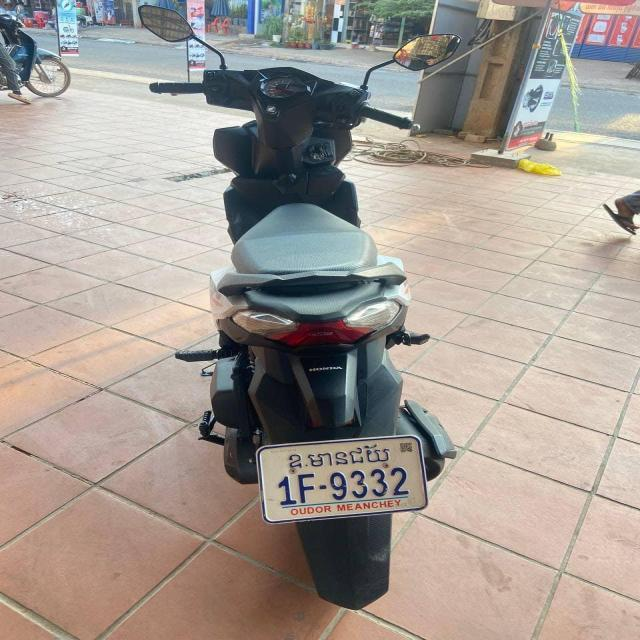Oudor_Meanchey: (287, 442, 391, 469)
